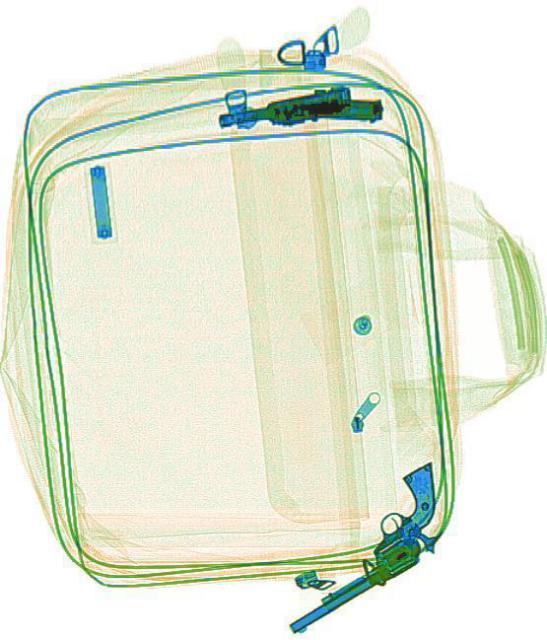Gun: (256, 460, 467, 638), (216, 79, 381, 133)
